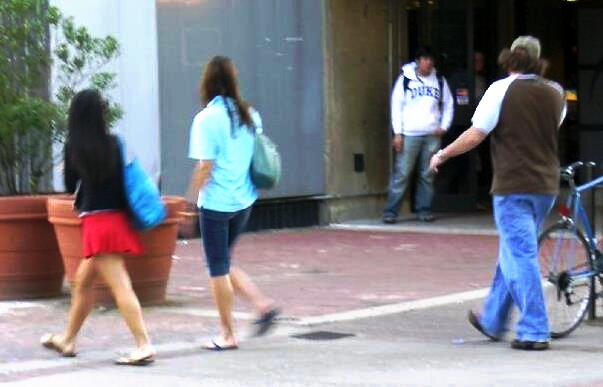person: (444, 33, 561, 350), (44, 82, 169, 368), (189, 52, 291, 354)
